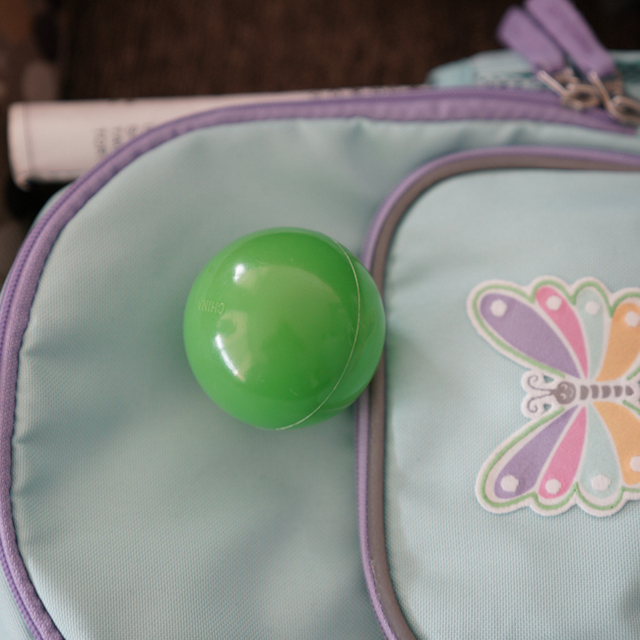Ball: (184, 228, 385, 429)
